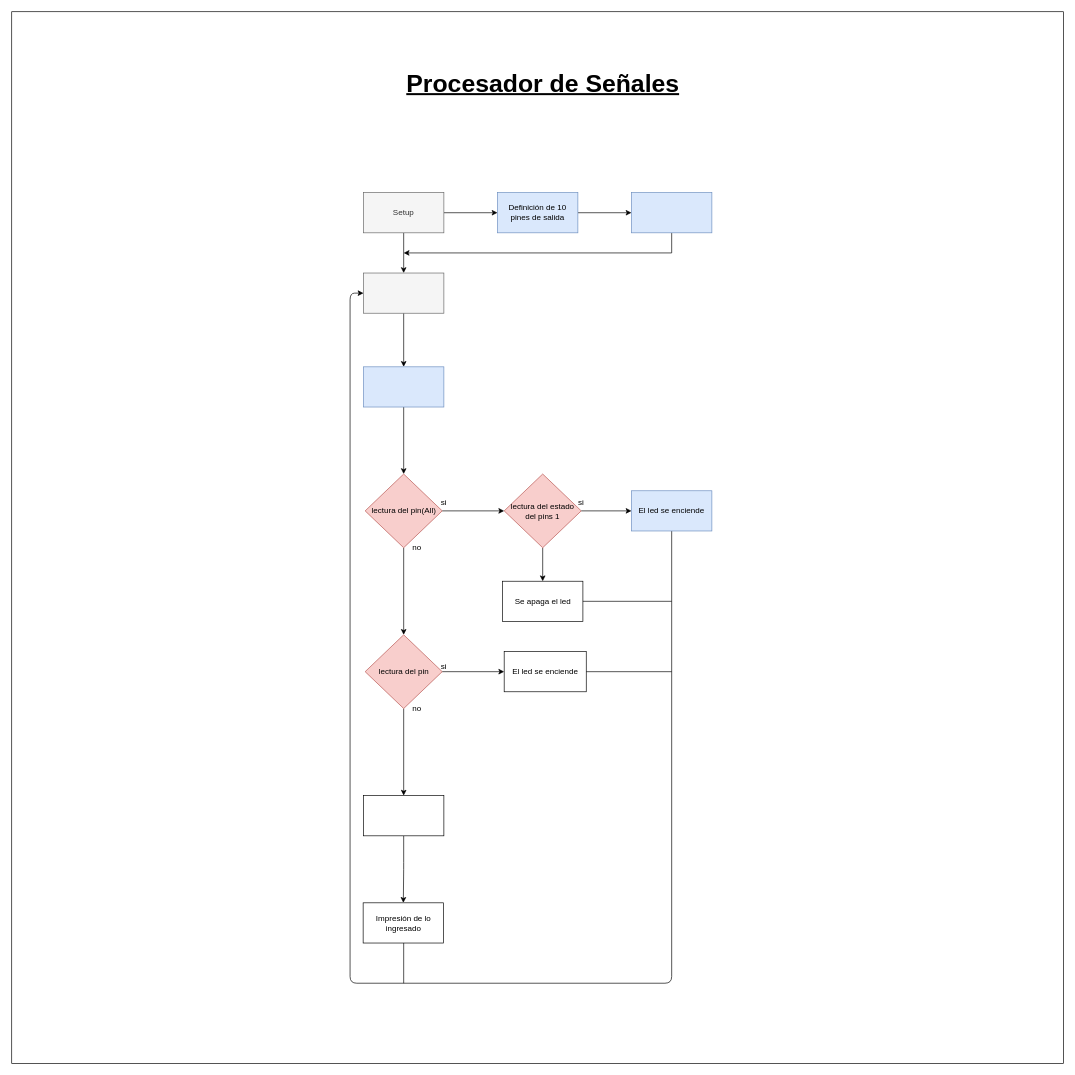
Image size: 1075x1075. Some labels were removed from this diagram. The centre of each missing label's shape, as x and y in pixels:
El led se apaga: (403,815)
Inicialización de serial: (671,212)
Lectura analoga: (403,386)
loop: (403,292)
